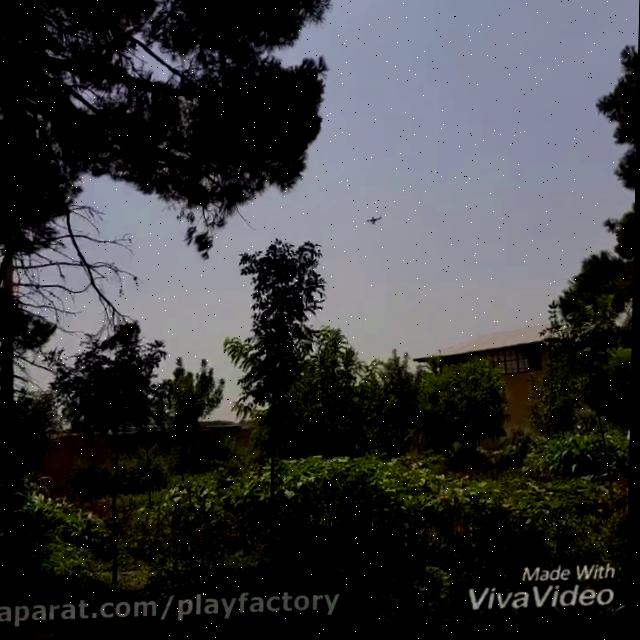drone: (361, 212, 387, 230)
